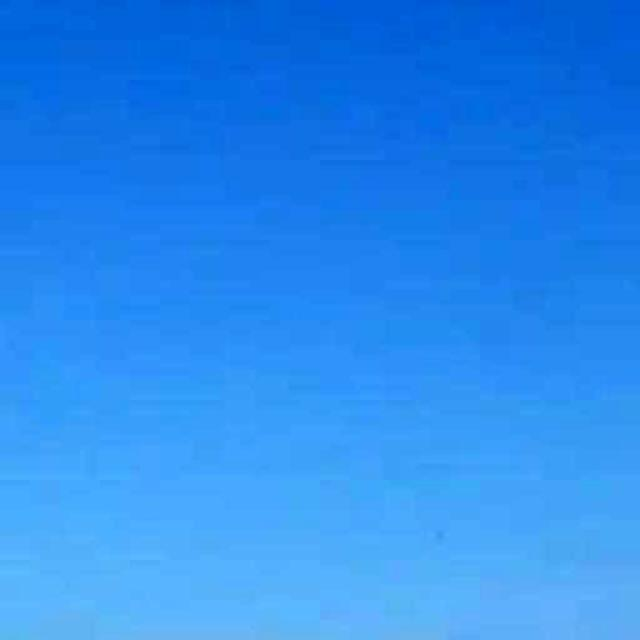drone: (409, 502, 469, 570)
